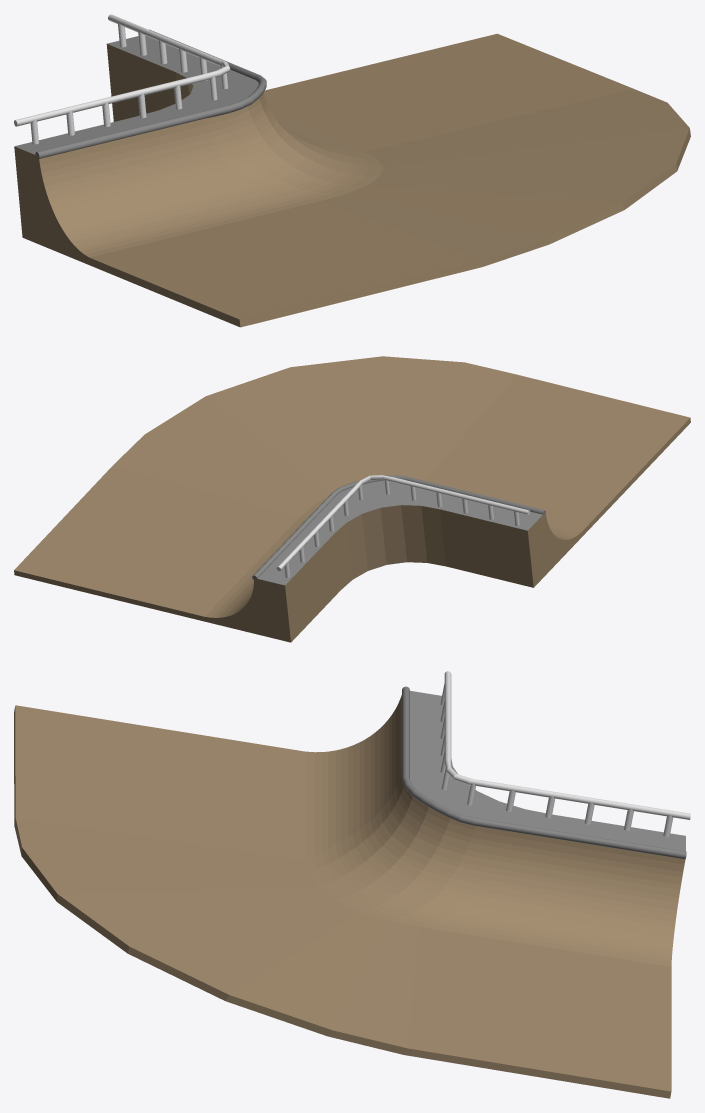
Rendered from Rampa circular 2.fbx.
The picture shows the model from 3 angles, top to bottom: view 1: azimuth 30°, elevation 25°; view 2: azimuth 150°, elevation 25°; view 3: azimuth 270°, elevation 25°; orthographic projection. The views are drawn at different scales.
Parts seen in each view (by area): view 1: Rampa curva 2; view 2: Rampa curva 2; view 3: Rampa curva 2.
Part boxes in pixels (bbox=[...]): Rampa curva 2: bbox=[14, 14, 690, 327]; Rampa curva 2: bbox=[14, 356, 690, 642]; Rampa curva 2: bbox=[14, 671, 690, 1098].
Bounding box in the file's own units: 3163 × 765 × 3214.
